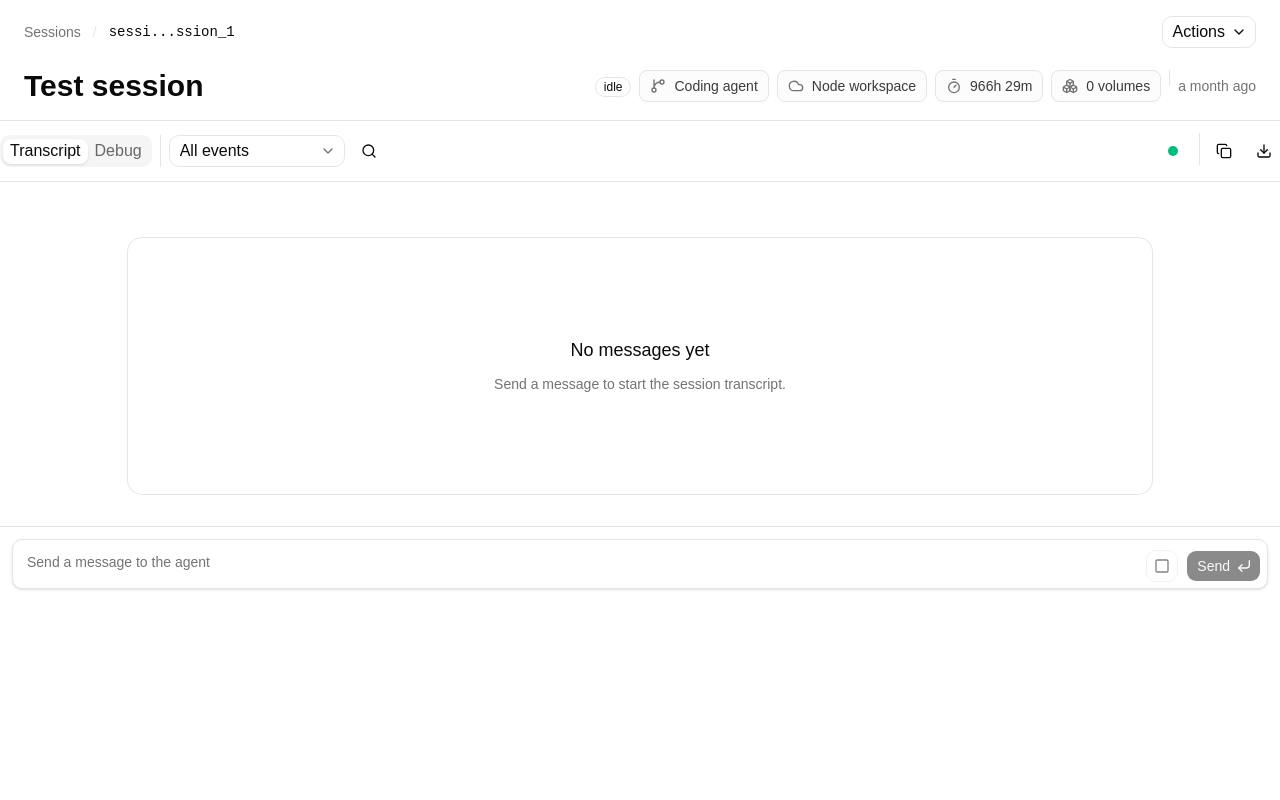
Test case: SessionDetailView › opens environment resource sheet on meta button click
The image size is (1280, 800).
Click the button with aria-label "Open environment details". click: coordinates (852, 86)
box: [777,70,927,102]
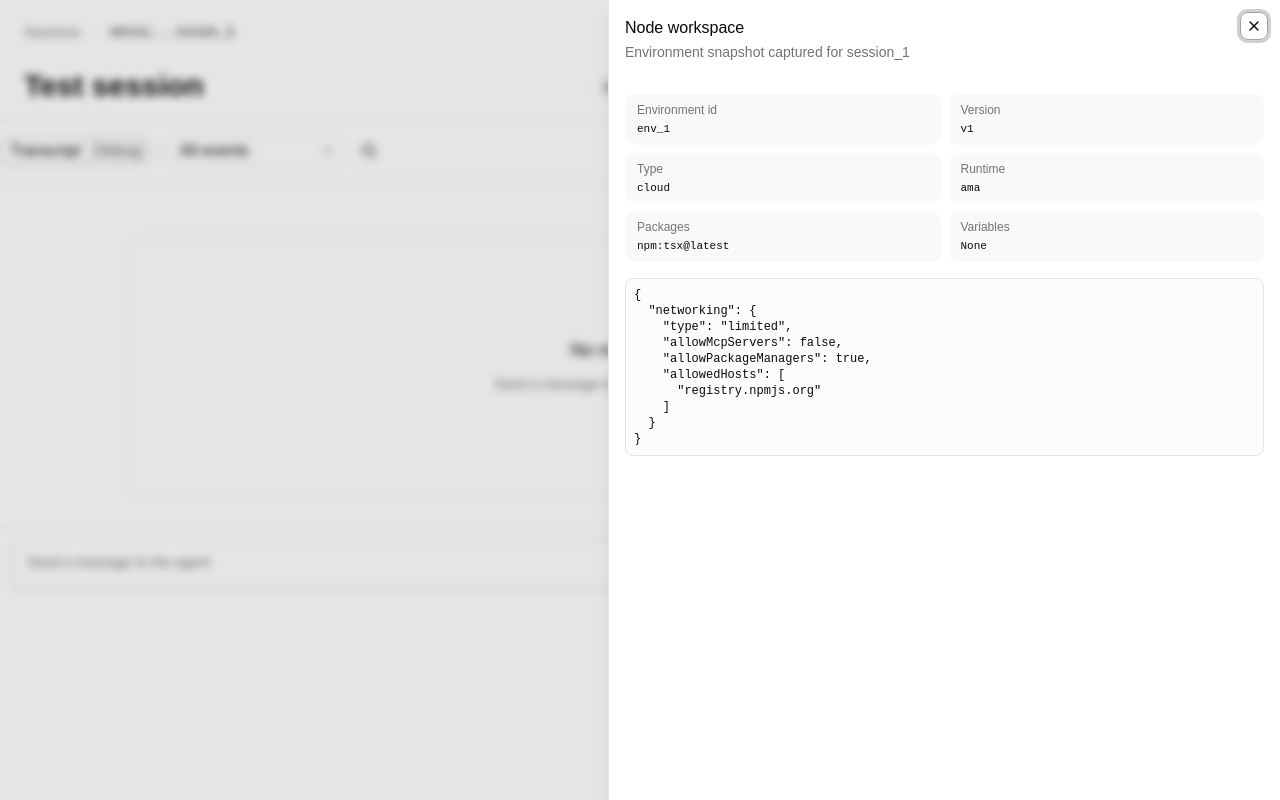
Now the text "Environment snapshot captured for session_1" is shown, box [625,44,910,60]
Now the text "Environment id" is shown, box [637,103,717,117]
